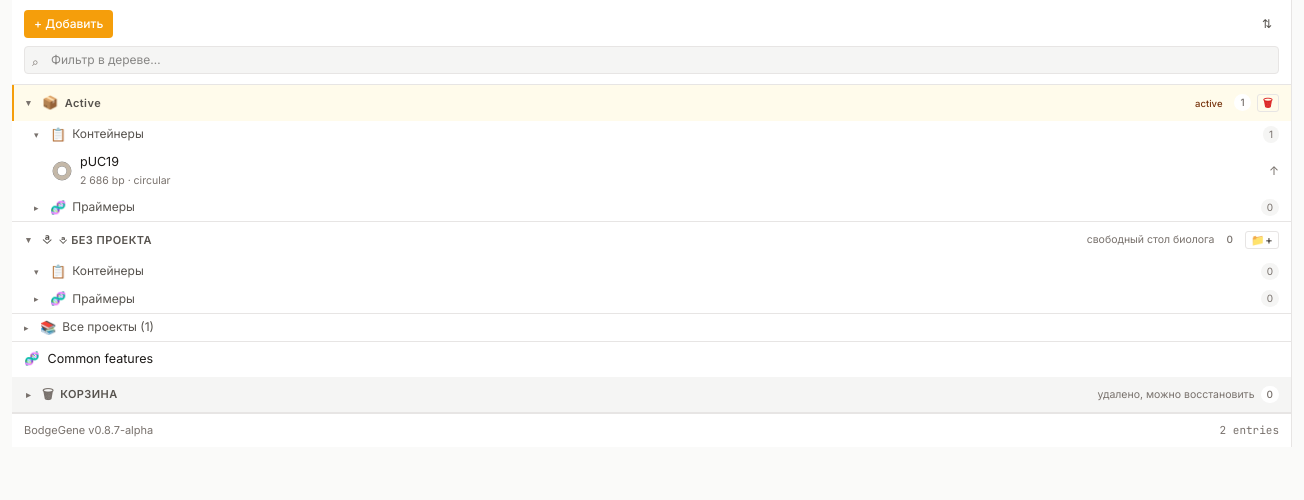
Test case: K2 — LibraryTreeRoot › discovers project zones from state.projects (post M-X.8 K4 — non-current non-pinned project lives under «Все проекты» group)
This screenshot has width=1304, height=500.
Expected: the element with test id "library-zone-project-pa" is shown, x1=12 y1=85 x2=1291 y2=222
Click the button with test id "tree-all-projects-group": (89, 326) x1=24 y1=318 x2=154 y2=334
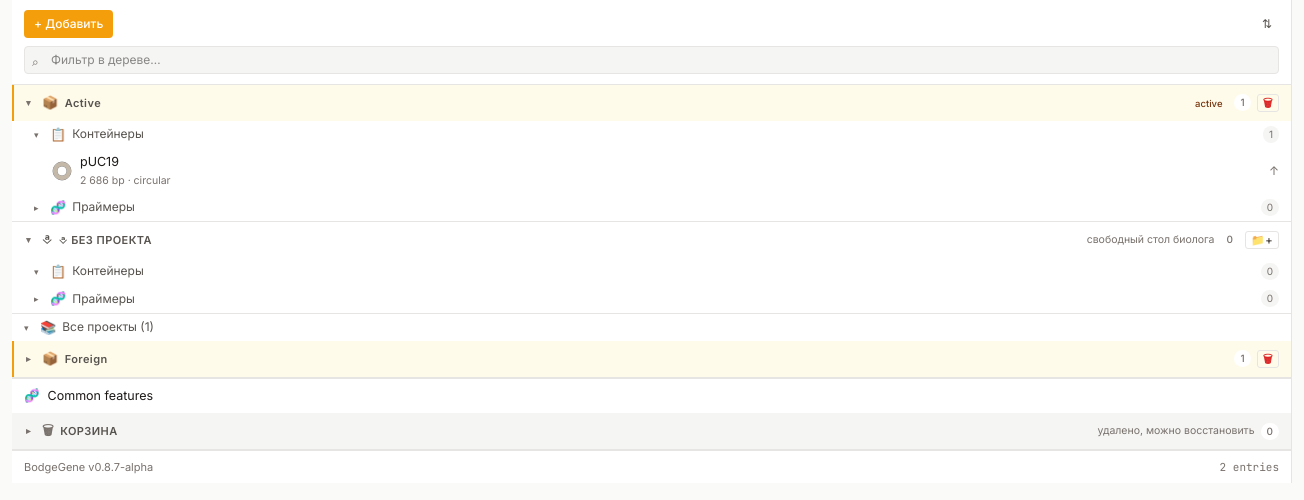
Result: the element with test id "library-zone-project-pb" is shown at x1=12 y1=341 x2=1291 y2=378
